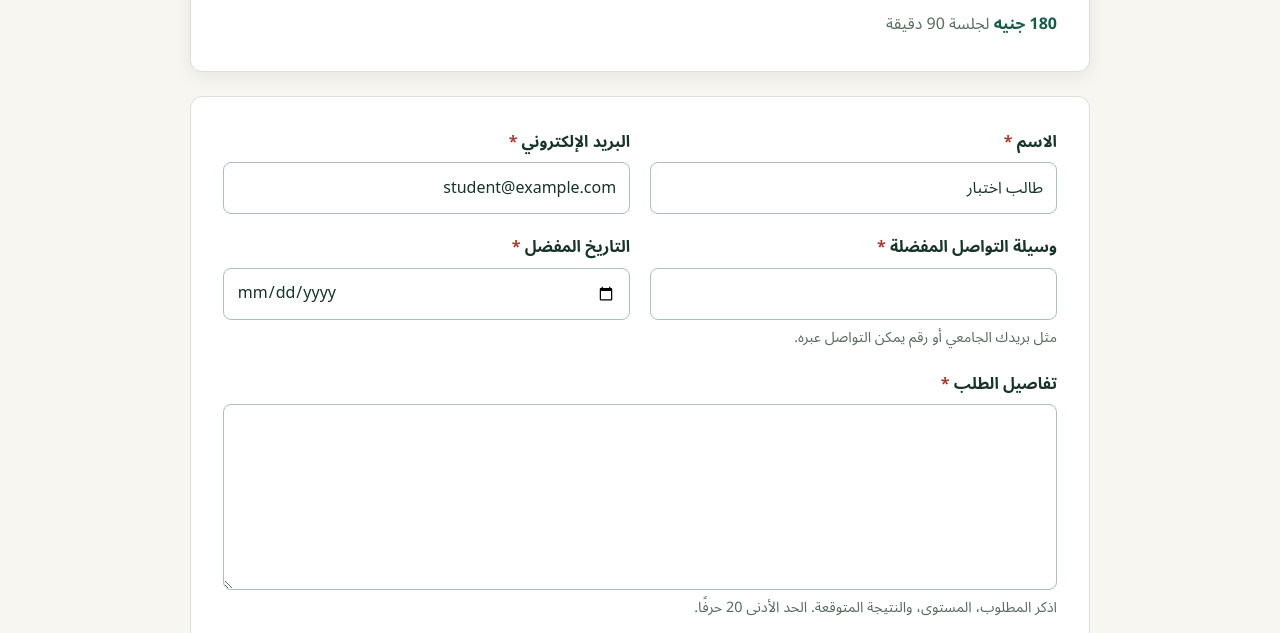
Test: نموذج الطلب المبسط › يقرأ الحقول وخانة الموافقة ويعلن النجاح بعد الحفظ فقط
The image size is (1280, 633).
(page scrolled)
Step 1. Type "student@example.com" into the field labelled "وسيلة التواصل المفضلة" → (854, 294), box [650, 268, 1057, 320]
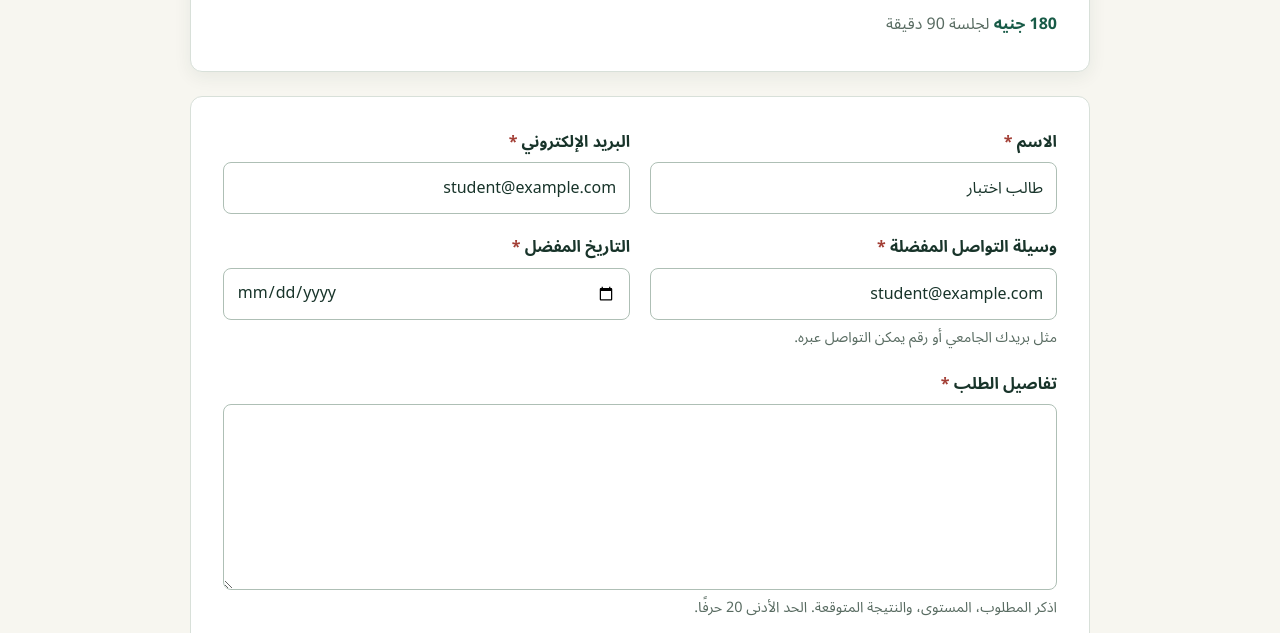
Step 2. Type "2999-12-31" into the date field labelled "التاريخ المفضل" → (426, 294), box [223, 268, 630, 320]
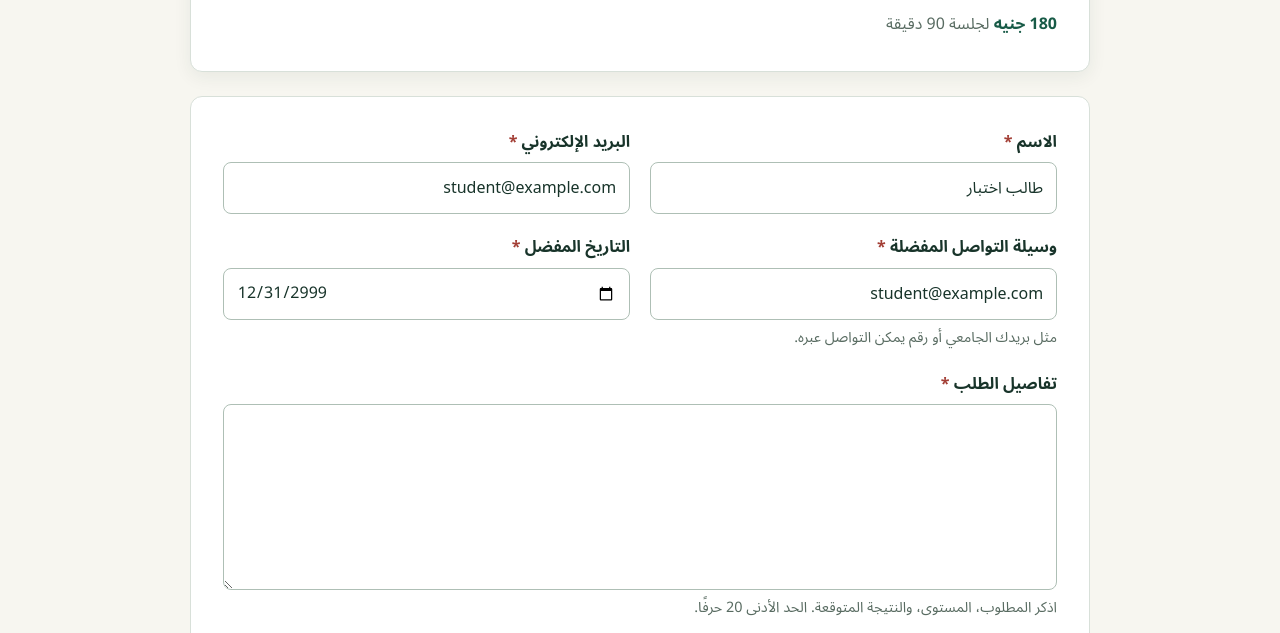
Step 3. Type "أحتاج إلى شرح مفصل مع أمثلة عملية في هذا المقرر." into the text box labelled "تفاصيل الطلب" → (640, 497), box [223, 404, 1057, 590]
(page scrolled)
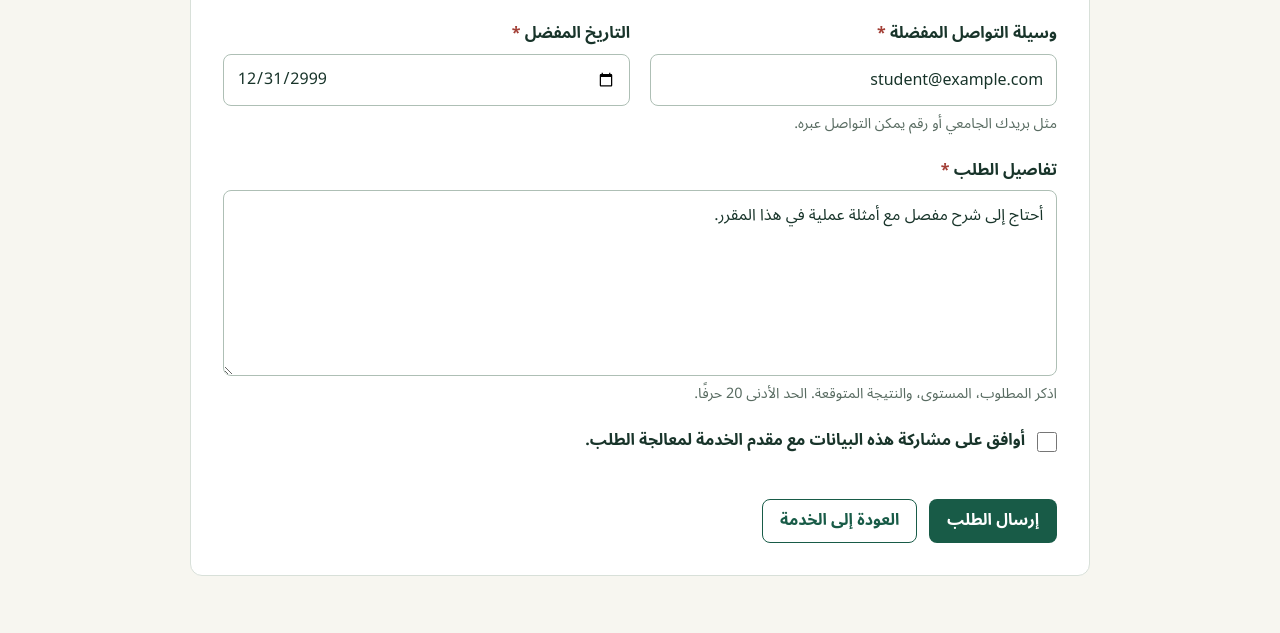
Step 4. Click the checkbox → click(1047, 442), box [1037, 432, 1057, 452]
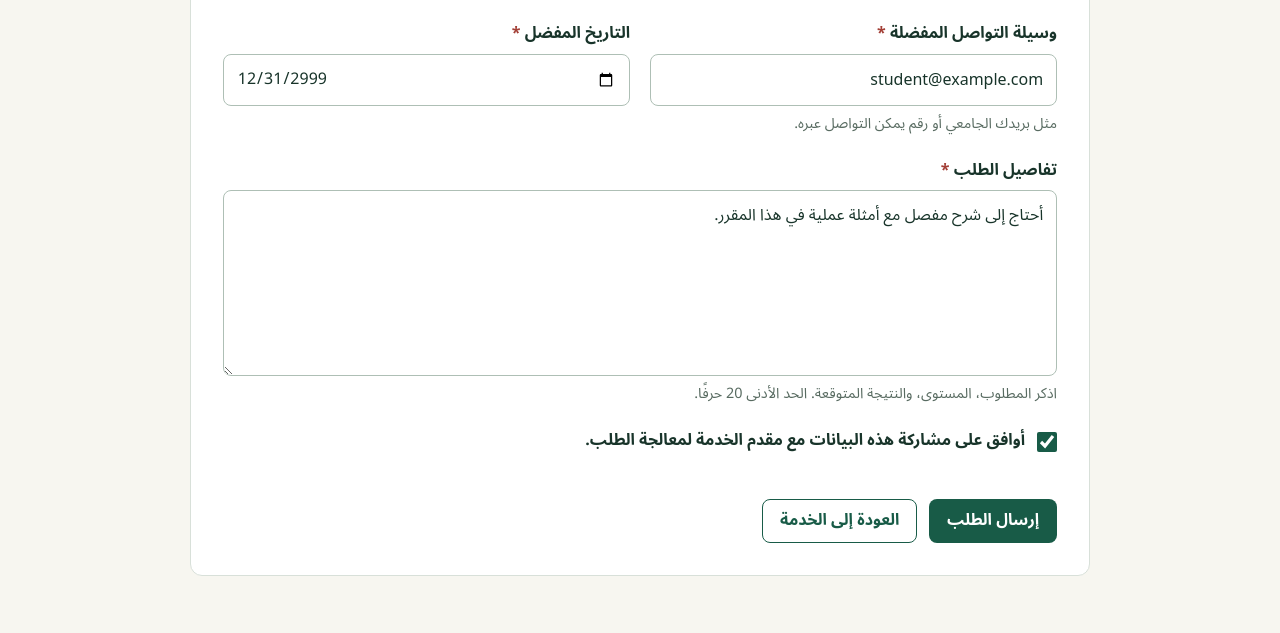
Step 5. Click the button "إرسال الطلب" → click(993, 521), box [929, 499, 1057, 543]
(page scrolled)
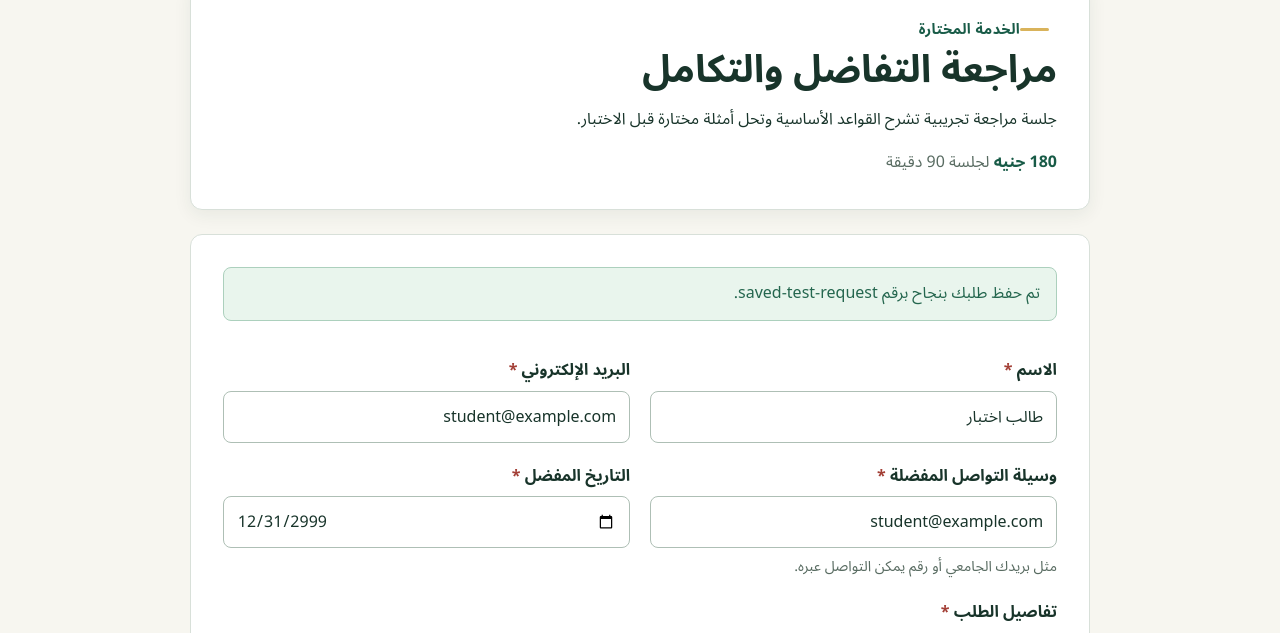
Expected: the text "تم حفظ طلبك بنجاح برقم saved-test-request." is shown, [223, 266, 1057, 321]
